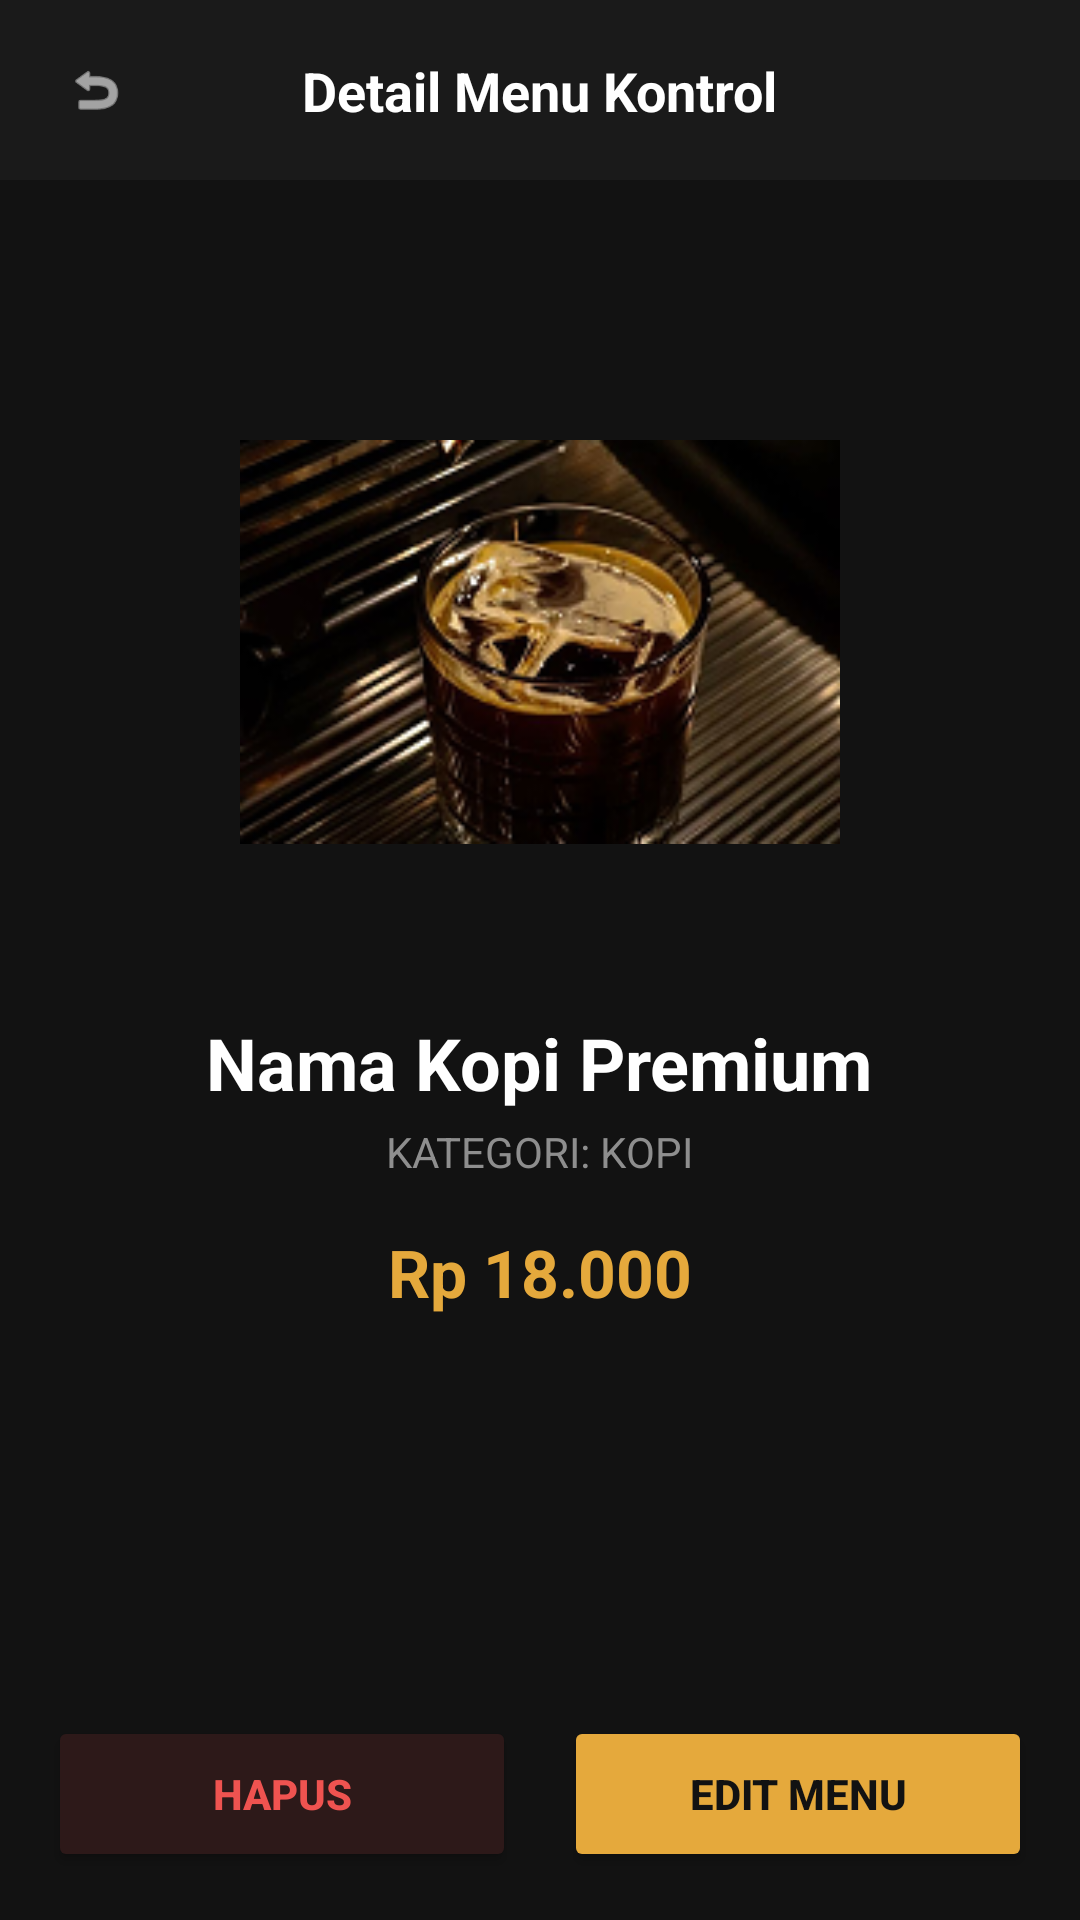

Where to tap for icons on this 1080px×1920px app screen, as (x,y):
revert: (96,90)
